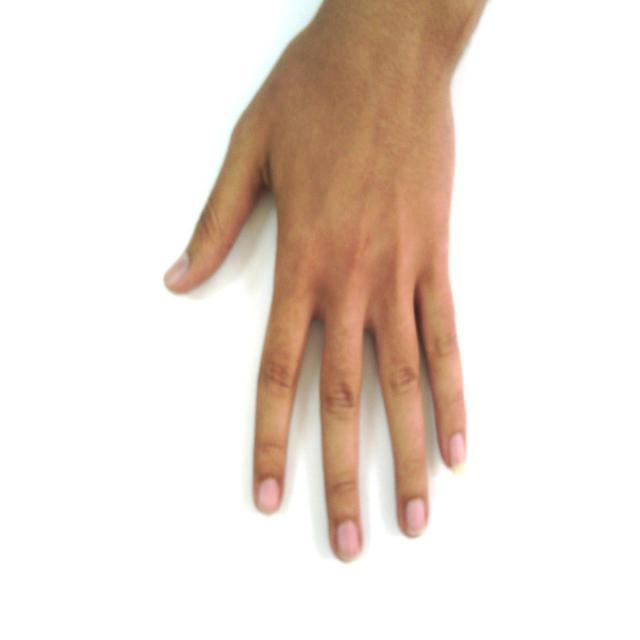Fingernail: (337, 520, 361, 561), (165, 254, 189, 285), (406, 499, 426, 535), (259, 478, 279, 513), (449, 434, 465, 470)
